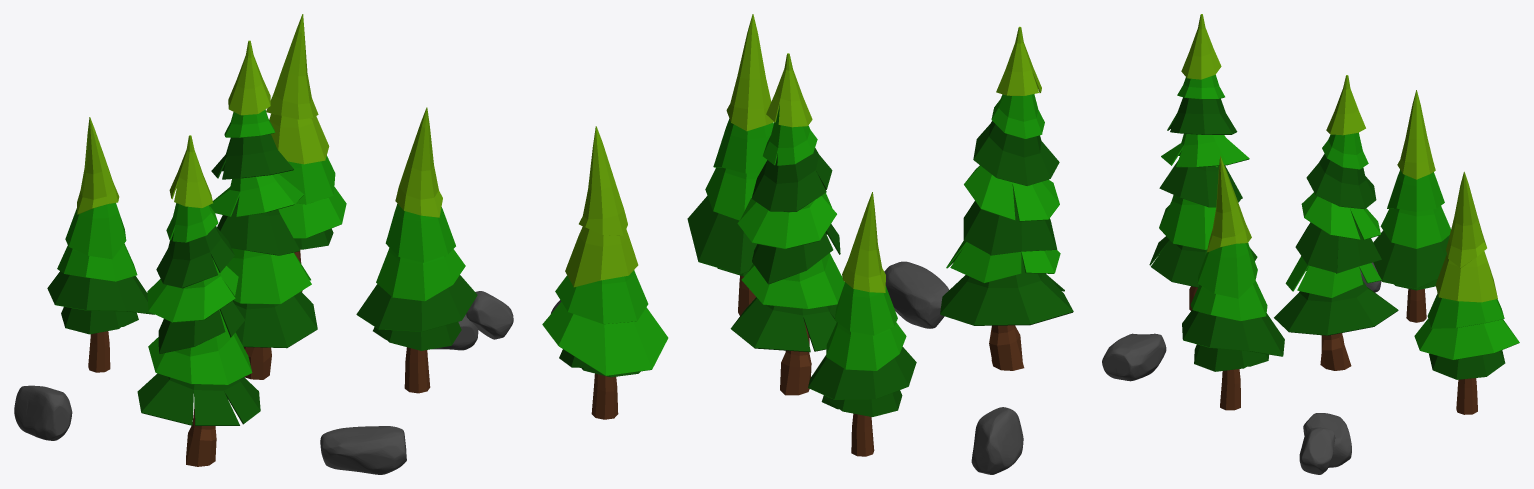
File: ForestModel.fbx
3 renders of one model, left to right at view 1: azimuth 30°, elevation 25°; view 2: azimuth 150°, elevation 25°; view 3: azimuth 270°, elevation 25°, orthographic. The views are drawn at different scales.
Parts seen in each view (by area): view 1: tree-1; view 2: tree-1; view 3: tree-1.
Boxes of the visible parts, bbox=[...] form: tree-1: bbox=[14, 14, 513, 474]; tree-1: bbox=[542, 14, 1073, 474]; tree-1: bbox=[1102, 14, 1519, 474].
Bounding box in the file's own units: 1.46 × 1.04 × 1.28.
